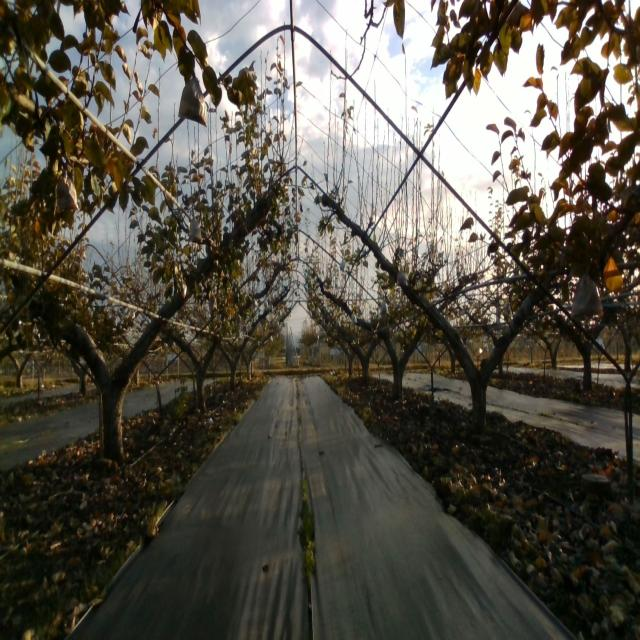pearbags: (570, 273, 604, 322), (178, 75, 208, 128), (52, 175, 78, 216), (188, 215, 202, 244), (396, 266, 406, 286)
